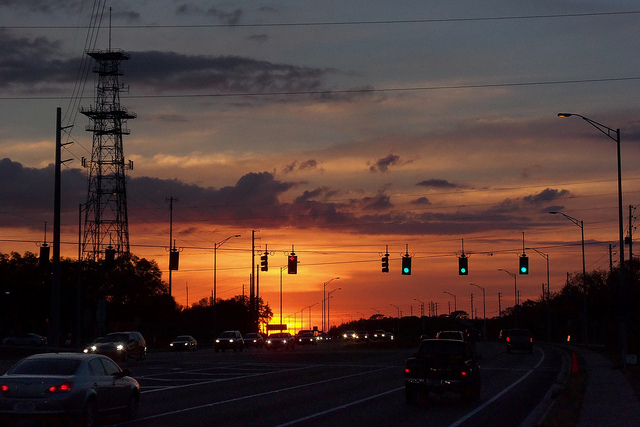car: (83, 329, 155, 362)
